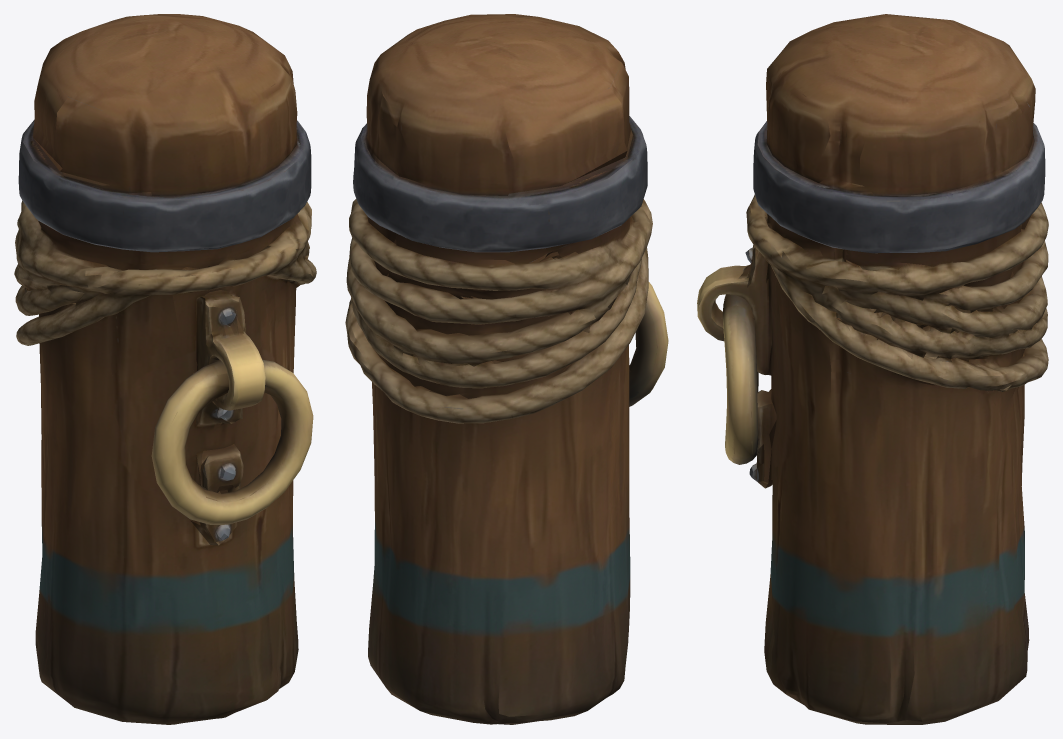
The model's file is mooring_post.glb.
3 renders of one model, left to right at view 1: azimuth 30°, elevation 25°; view 2: azimuth 150°, elevation 25°; view 3: azimuth 270°, elevation 25°, orthographic.
Visible parts, largest first — view 1: Mesh_0; view 2: Mesh_0; view 3: Mesh_0.
Part boxes in pixels (bbox=[...]): Mesh_0: bbox=[14, 14, 316, 724]; Mesh_0: bbox=[345, 14, 668, 724]; Mesh_0: bbox=[697, 14, 1048, 724].
Bounding box in the file's own units: 0.8179 × 1.9 × 0.9408.
1 material, 1 textured.
